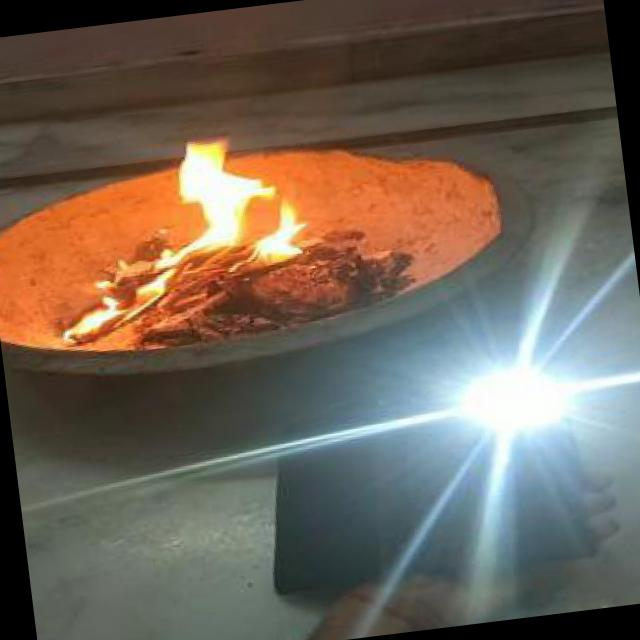fire: (39, 126, 322, 342)
